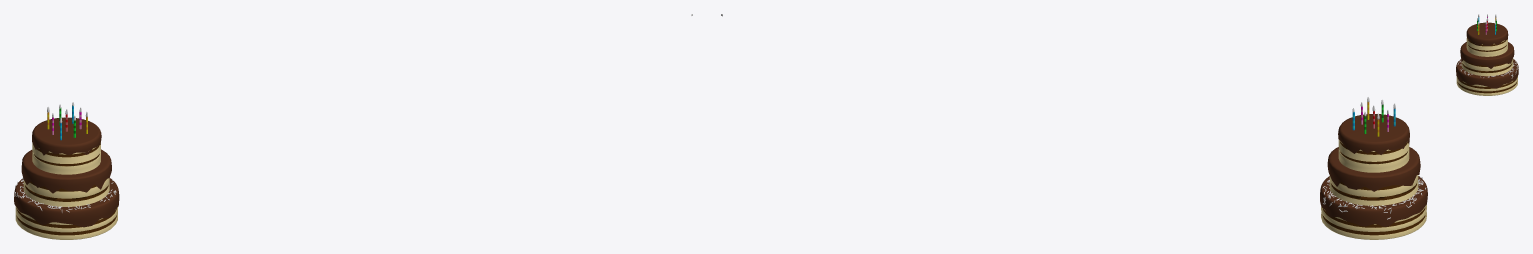
Rendered from bday cake.fbx.
The picture shows the model from 3 angles, left to right: view 1: azimuth 30°, elevation 25°; view 2: azimuth 150°, elevation 25°; view 3: azimuth 270°, elevation 25°; orthographic projection. The views are drawn at different scales.
Parts seen in each view (by area): view 1: Cylinder.012; view 2: Cylinder.012; view 3: Cylinder.012.
Boxes of the visible parts, x1,y1,x2,y2 form: Cylinder.012: (14, 105, 119, 239); Cylinder.012: (1320, 102, 1427, 239); Cylinder.012: (1456, 16, 1518, 95).
Bounding box in the file's own units: 1517 × 236 × 204.
